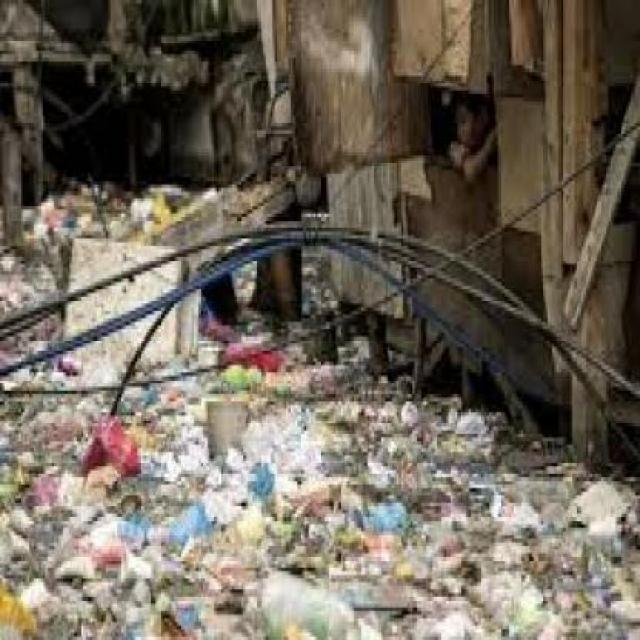garbage: (0, 214, 638, 637), (25, 163, 325, 206)
